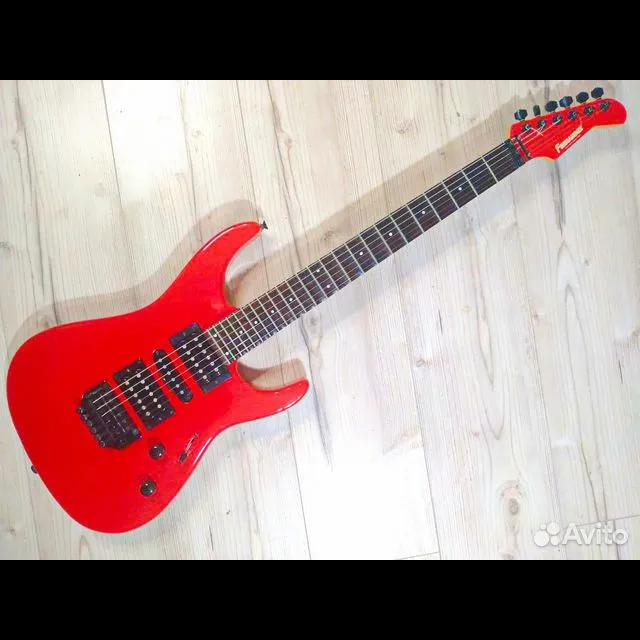Electric-Guitar: (7, 86, 630, 536)
